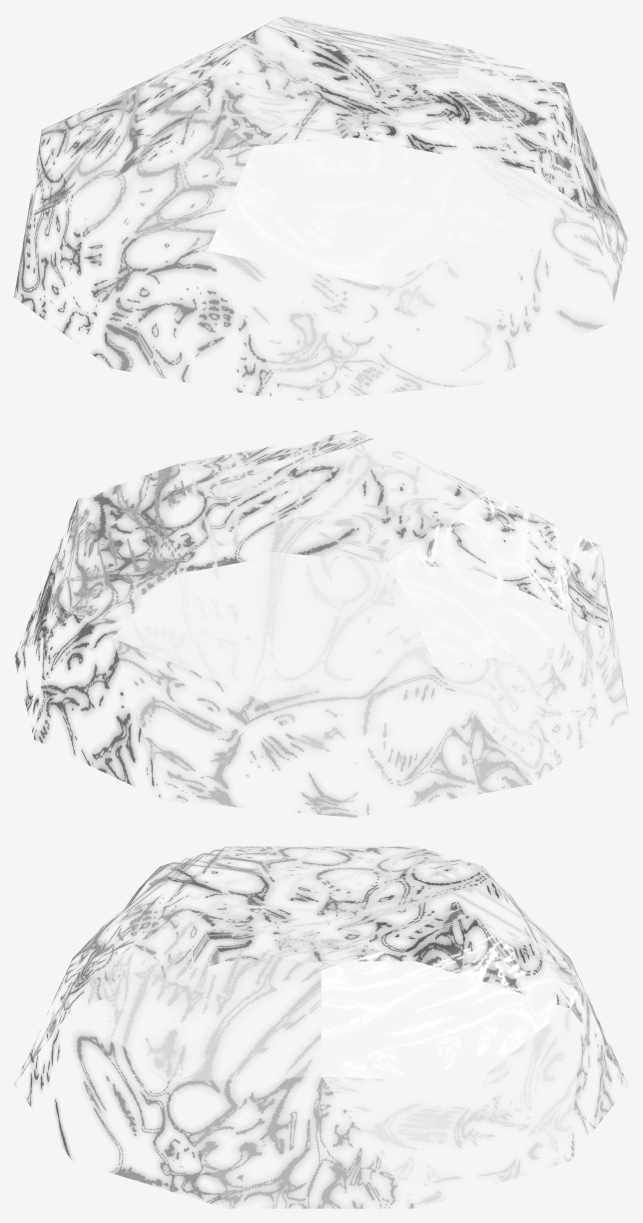
Rendered from hatesphere.glb.
3 renders of one model, top to bottom at view 1: azimuth 30°, elevation 25°; view 2: azimuth 150°, elevation 25°; view 3: azimuth 270°, elevation 25°, orthographic. The views are drawn at different scales.
Visible parts, largest first — view 1: Icosphere; view 2: Icosphere; view 3: Icosphere.
Boxes of the visible parts, left/top/right/bottom form: Icosphere: left=14, top=16, right=628, bottom=400; Icosphere: left=14, top=430, right=628, bottom=817; Icosphere: left=14, top=846, right=626, bottom=1208.
Size of the model in its own units: 12.05 by 4.16 by 12.67.
1 material, 1 textured.
